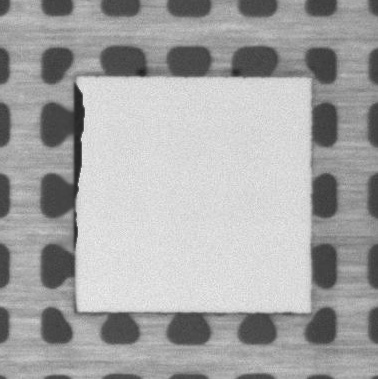DIE_BROKEN: (71, 84, 87, 248)
